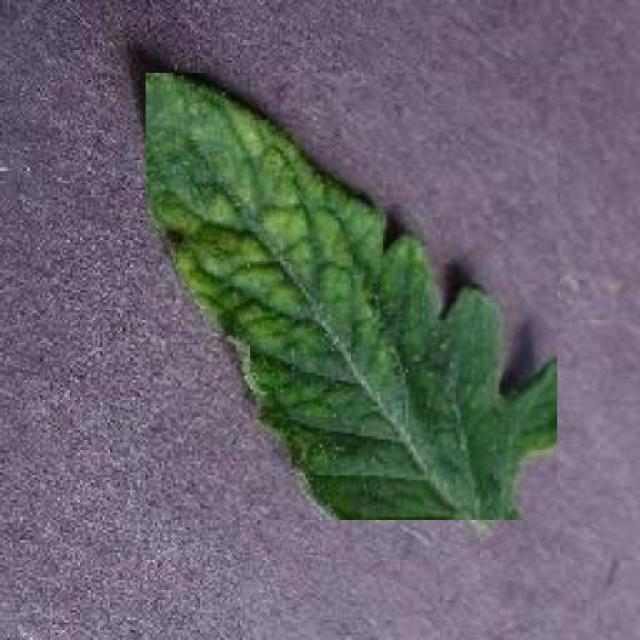Mosaic Virus: (146, 73, 557, 520)
